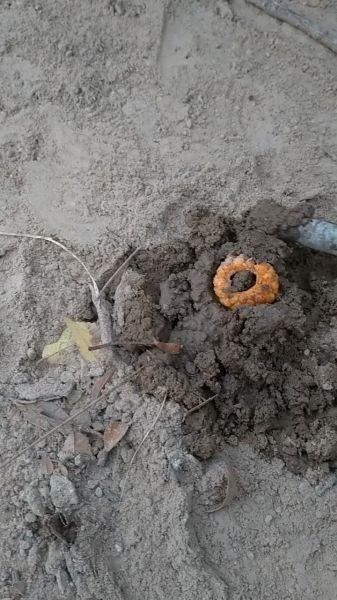eggs: (210, 253, 283, 316)
